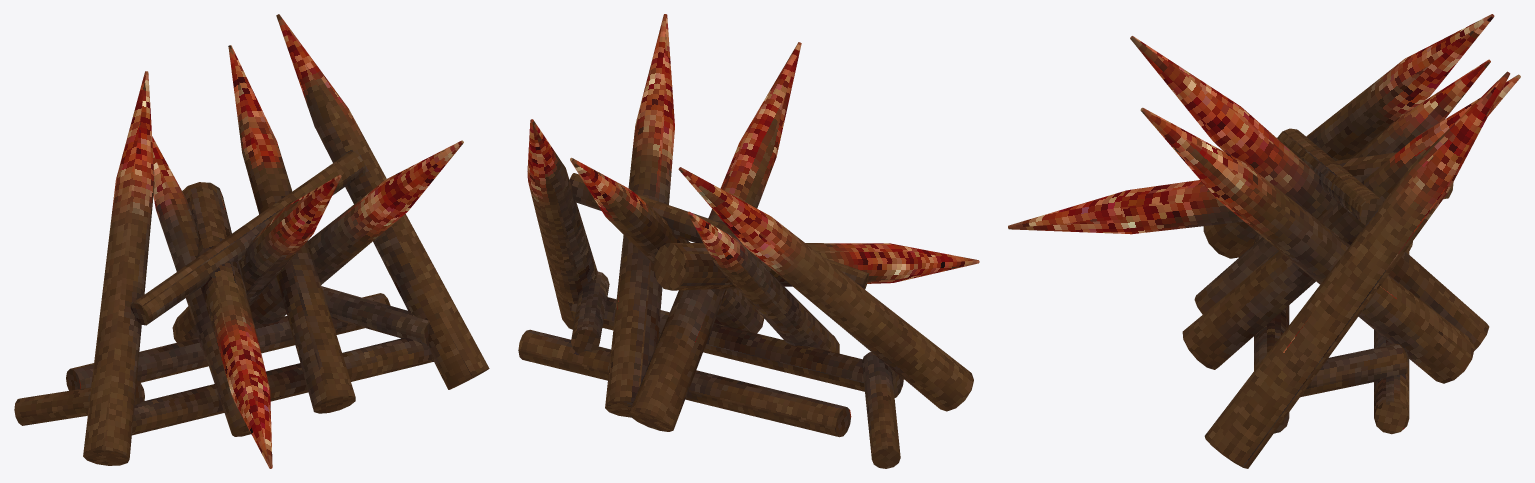
The model's file is Spike_Fence_Variant_2_Alternative_2.gltf.
3 views of the same model, side by side, from view 1: azimuth 30°, elevation 25°; view 2: azimuth 150°, elevation 25°; view 3: azimuth 270°, elevation 25° (orthographic). The views are drawn at different scales.
Parts seen in each view (by area): view 1: Spike_Fence_Variant_2_Alternative_2; view 2: Spike_Fence_Variant_2_Alternative_2; view 3: Spike_Fence_Variant_2_Alternative_2.
Part boxes in pixels (x1,y1,x2,y2): Spike_Fence_Variant_2_Alternative_2: (14, 14, 489, 468); Spike_Fence_Variant_2_Alternative_2: (518, 14, 979, 468); Spike_Fence_Variant_2_Alternative_2: (1008, 14, 1520, 468).
Bounding box in the file's own units: 6.14 × 4.49 × 5.85.
Materials: 1 (1 with a texture image).
